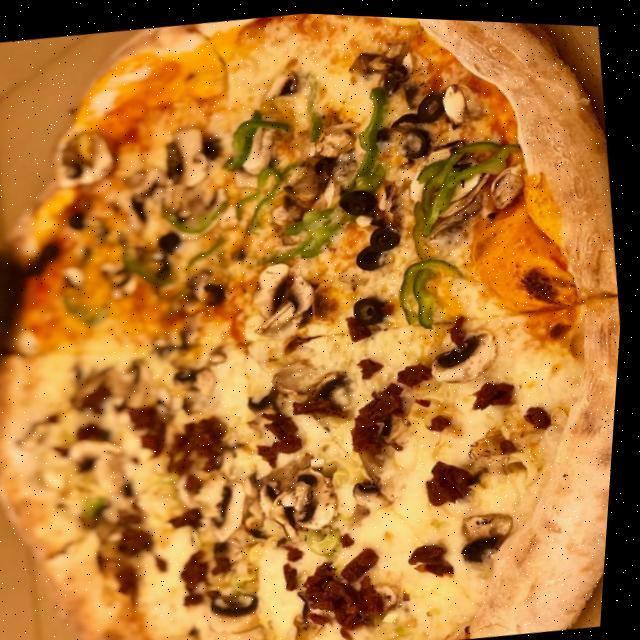black_olives: (385, 82, 452, 130), (348, 222, 410, 271), (332, 179, 382, 221), (344, 288, 396, 325), (371, 53, 417, 94), (396, 121, 436, 158), (305, 150, 343, 178), (194, 134, 227, 163), (57, 209, 92, 236), (204, 276, 234, 307), (156, 228, 191, 253)
mushrooms: (246, 249, 330, 335), (260, 151, 338, 237), (425, 318, 511, 386), (234, 463, 305, 542), (424, 164, 498, 237), (283, 459, 351, 535), (216, 119, 284, 194), (307, 110, 365, 192), (397, 135, 468, 198), (460, 499, 531, 561), (54, 126, 120, 192), (157, 119, 216, 190), (117, 164, 172, 237), (477, 151, 537, 213), (428, 72, 486, 136), (207, 473, 260, 543), (169, 361, 229, 420), (201, 588, 272, 637), (465, 417, 523, 470), (351, 461, 411, 512), (112, 353, 163, 409), (300, 359, 356, 405), (274, 352, 322, 402), (369, 178, 414, 231), (70, 431, 131, 469), (97, 256, 144, 305), (242, 378, 299, 417), (254, 59, 303, 102), (180, 265, 217, 310), (19, 416, 59, 455), (62, 263, 94, 294)
pizza: (0, 0, 640, 640)
